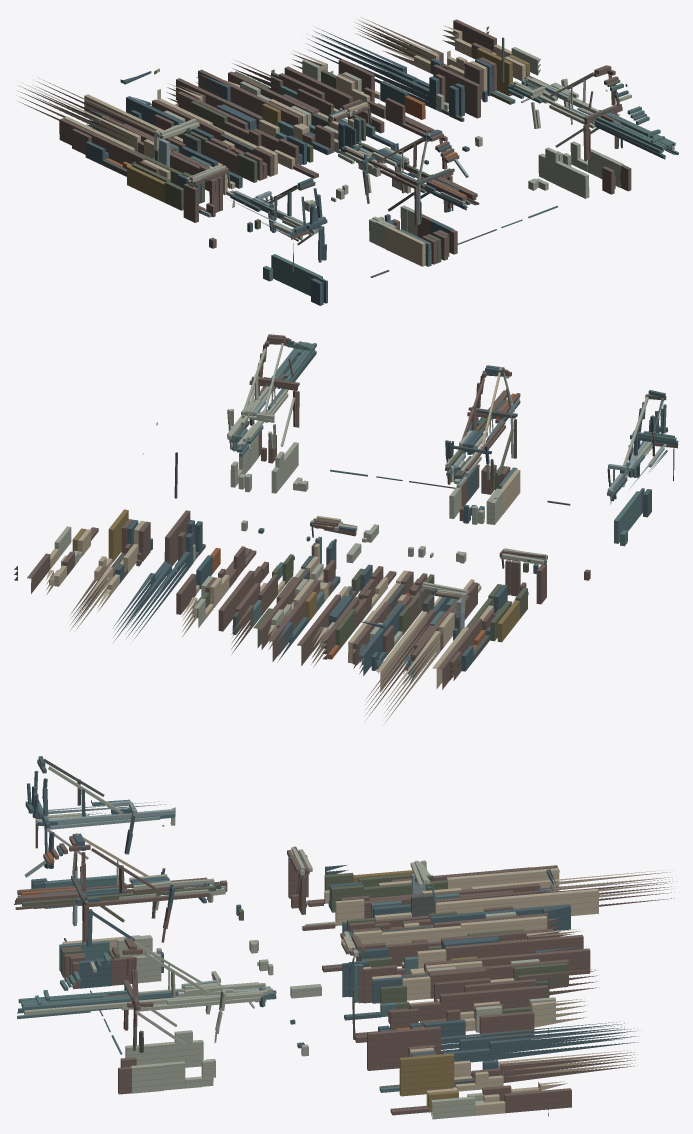
The model's file is terminal-30---116_-17.glb.
3 views of the same model, one above another, from view 1: azimuth 30°, elevation 25°; view 2: azimuth 150°, elevation 25°; view 3: azimuth 270°, elevation 25° (orthographic). The views are drawn at different scales.
Parts seen in each view (by area): view 1: measured-industrial; view 2: measured-industrial; view 3: measured-industrial.
Boxes of the visible parts, x1=… form: measured-industrial: x1=16, y1=18, x2=678, y2=305; measured-industrial: x1=14, y1=334, x2=678, y2=723; measured-industrial: x1=14, y1=756, x2=676, y2=1119.
Bounding box in the file's own units: 259 × 71.37 × 303.
